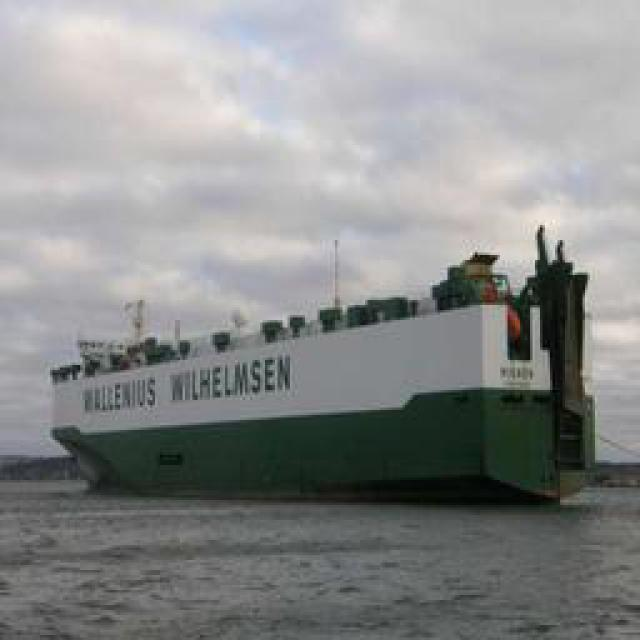Ship: (47, 236, 597, 499)
